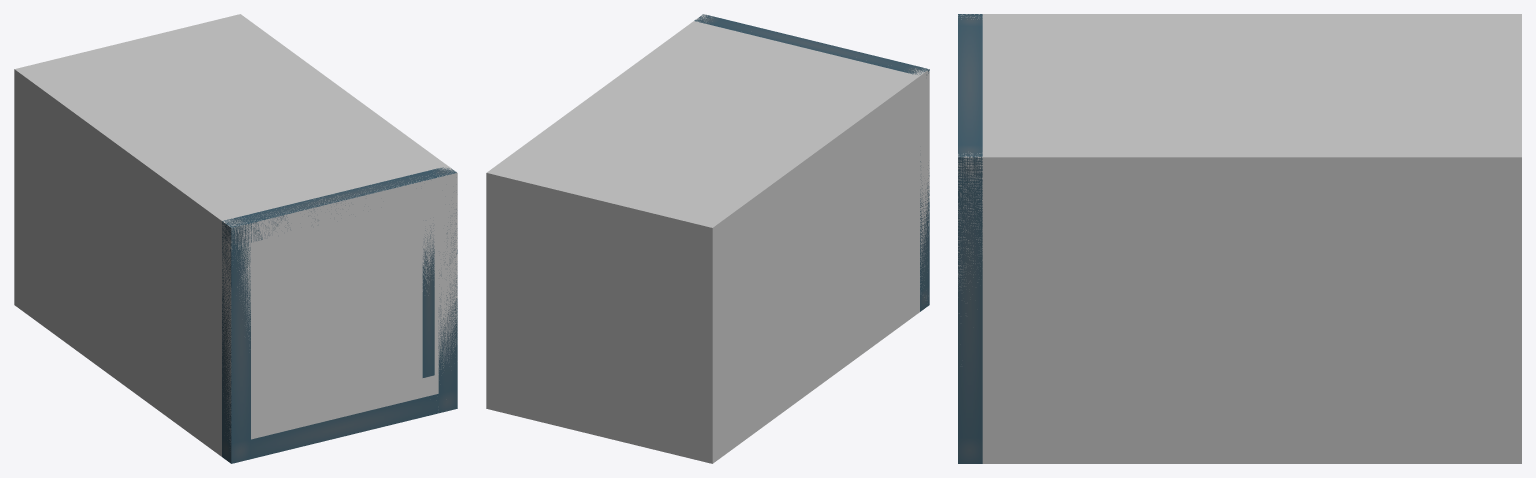
Rendered from SM_Metal_Block.fbx.
3 renders of one model, left to right at view 1: azimuth 30°, elevation 25°; view 2: azimuth 150°, elevation 25°; view 3: azimuth 270°, elevation 25°, orthographic. The views are drawn at different scales.
Parts seen in each view (by area): view 1: SM_Metal_Block_ConvexHulls, SM_Metal_Block; view 2: SM_Metal_Block_ConvexHulls, SM_Metal_Block; view 3: SM_Metal_Block_ConvexHulls, SM_Metal_Block.
Part boxes in pixels (box(x1,y1,x2,y2)): SM_Metal_Block_ConvexHulls: box(14, 14, 457, 456); SM_Metal_Block: box(222, 167, 457, 463); SM_Metal_Block_ConvexHulls: box(486, 14, 929, 463); SM_Metal_Block: box(694, 14, 929, 311); SM_Metal_Block_ConvexHulls: box(958, 14, 1521, 463); SM_Metal_Block: box(958, 14, 982, 463).
Size of the model in its own units: 120 by 200 by 120.
Materials: 2 (1 with a texture image).
